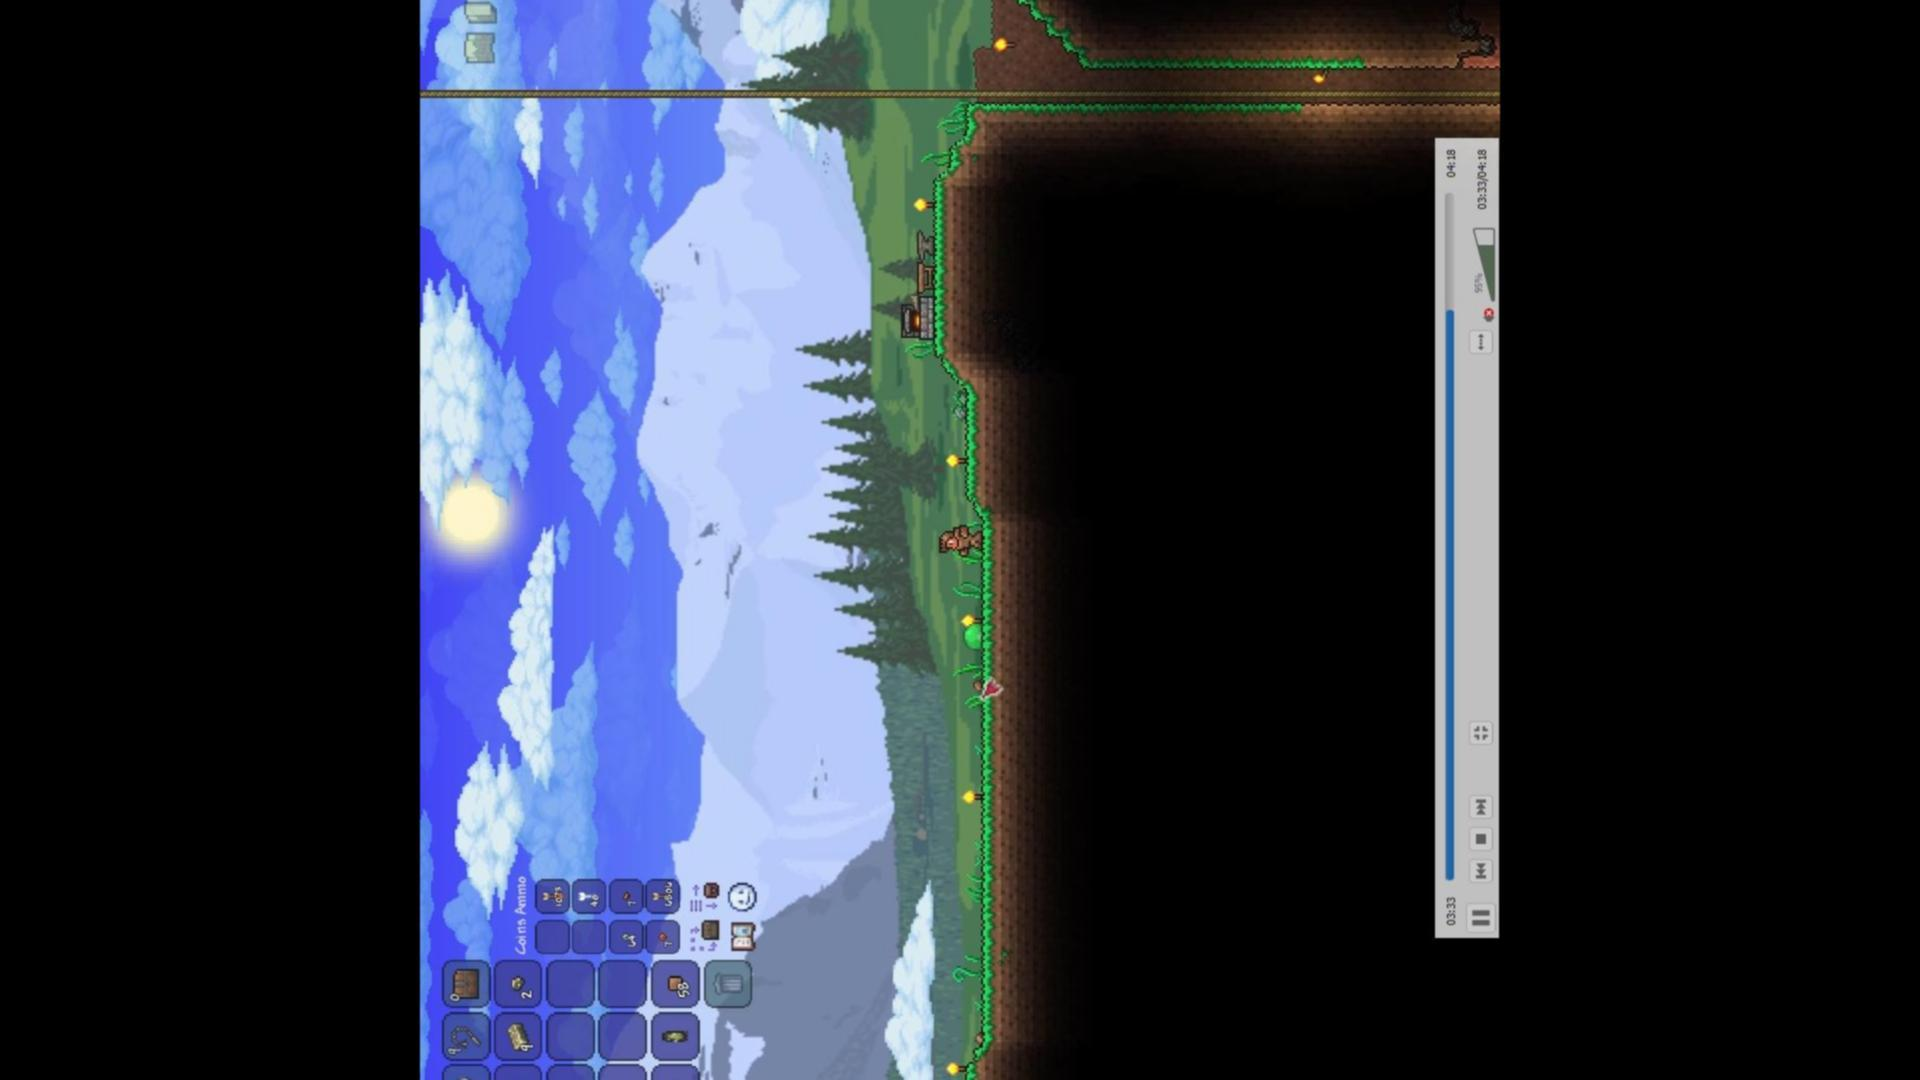anvil: (913, 229, 936, 260)
chest: (448, 964, 481, 1001)
furnace: (894, 295, 936, 344)
slime: (961, 621, 985, 651)
